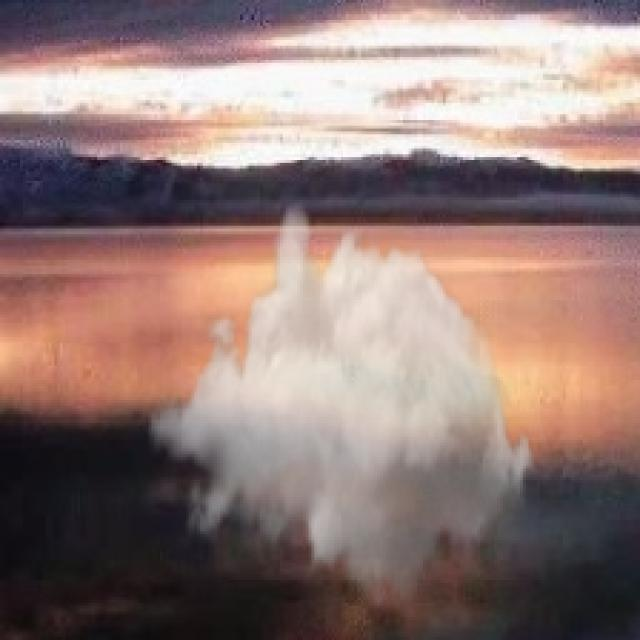Smoke: (145, 197, 538, 614)
